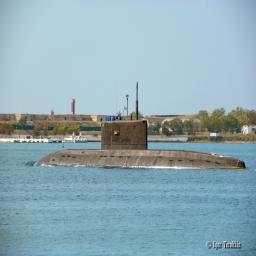submarine: (35, 80, 250, 168)
